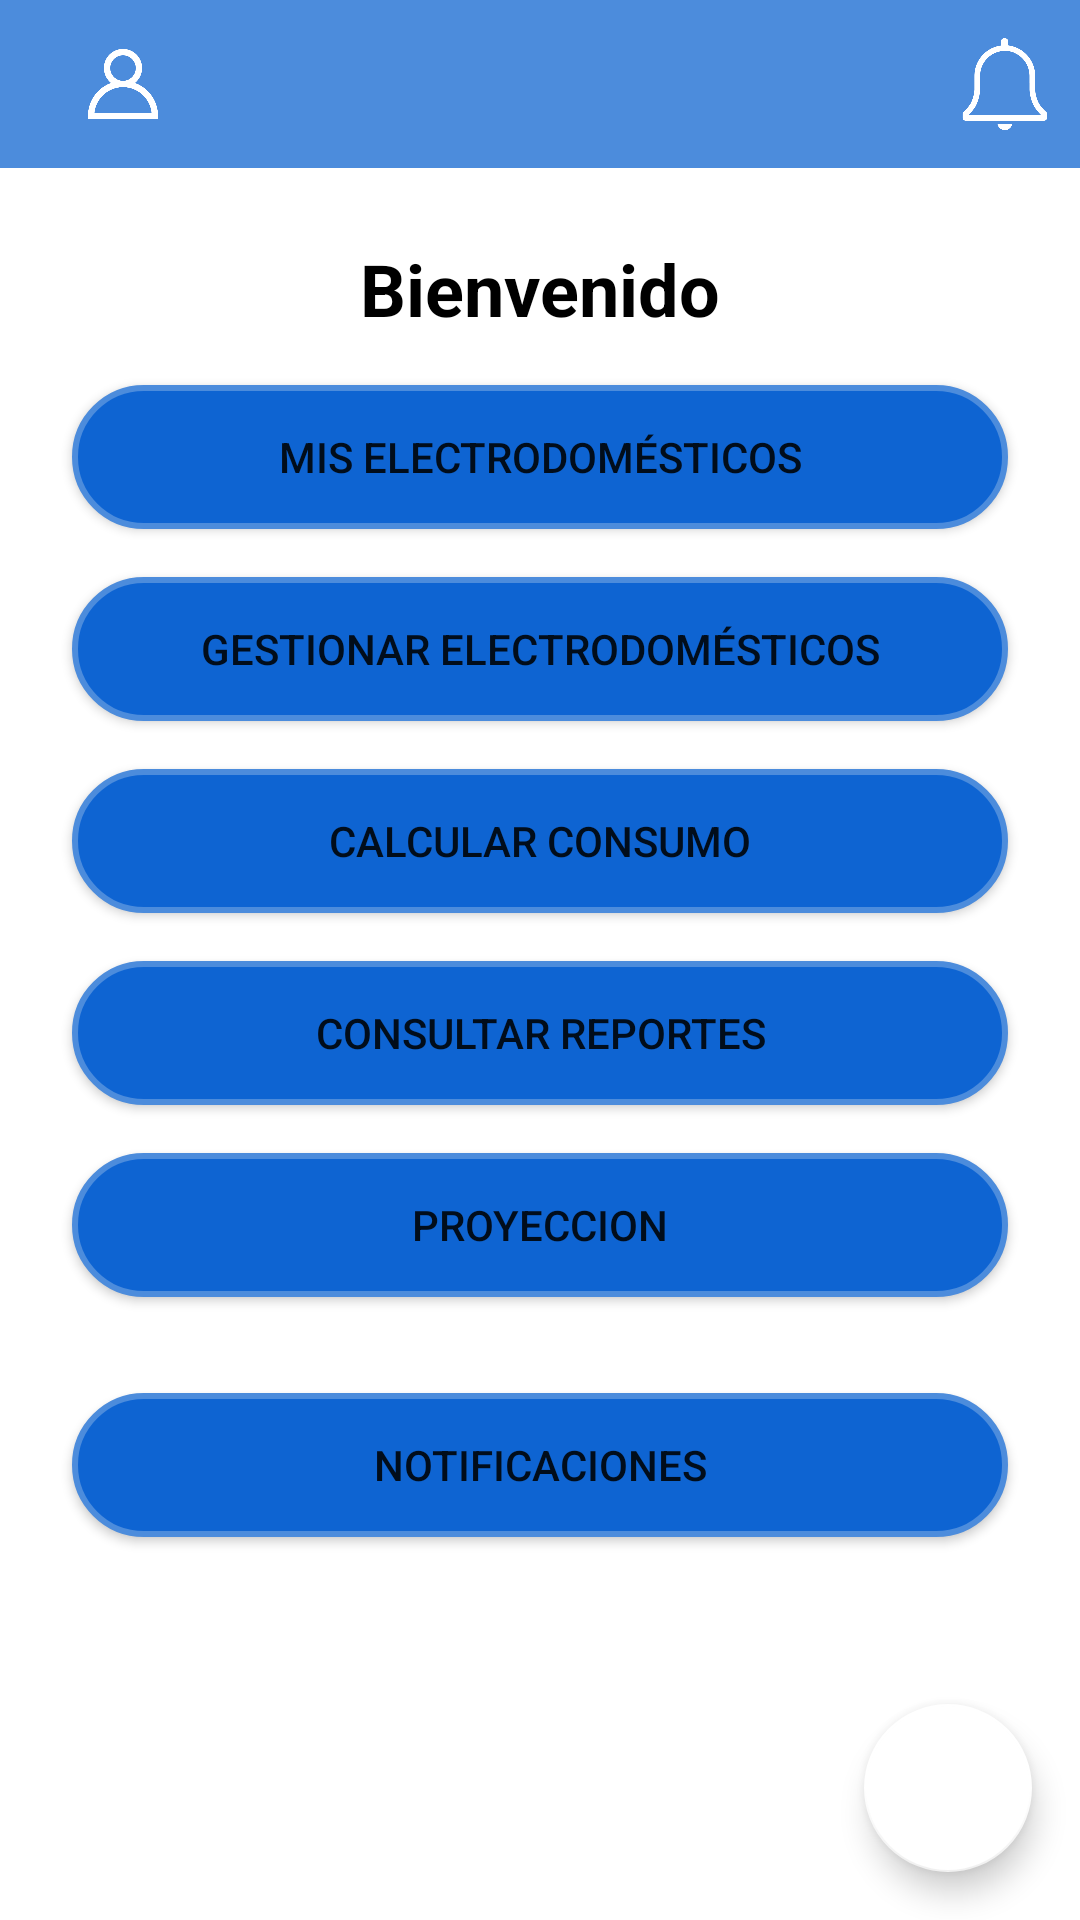

Point at icon controls on the screen. Image size 1080w x 1920h, points as point (x, y).
Notification Icon: point (1005, 84)
User Icon: point (123, 84)
